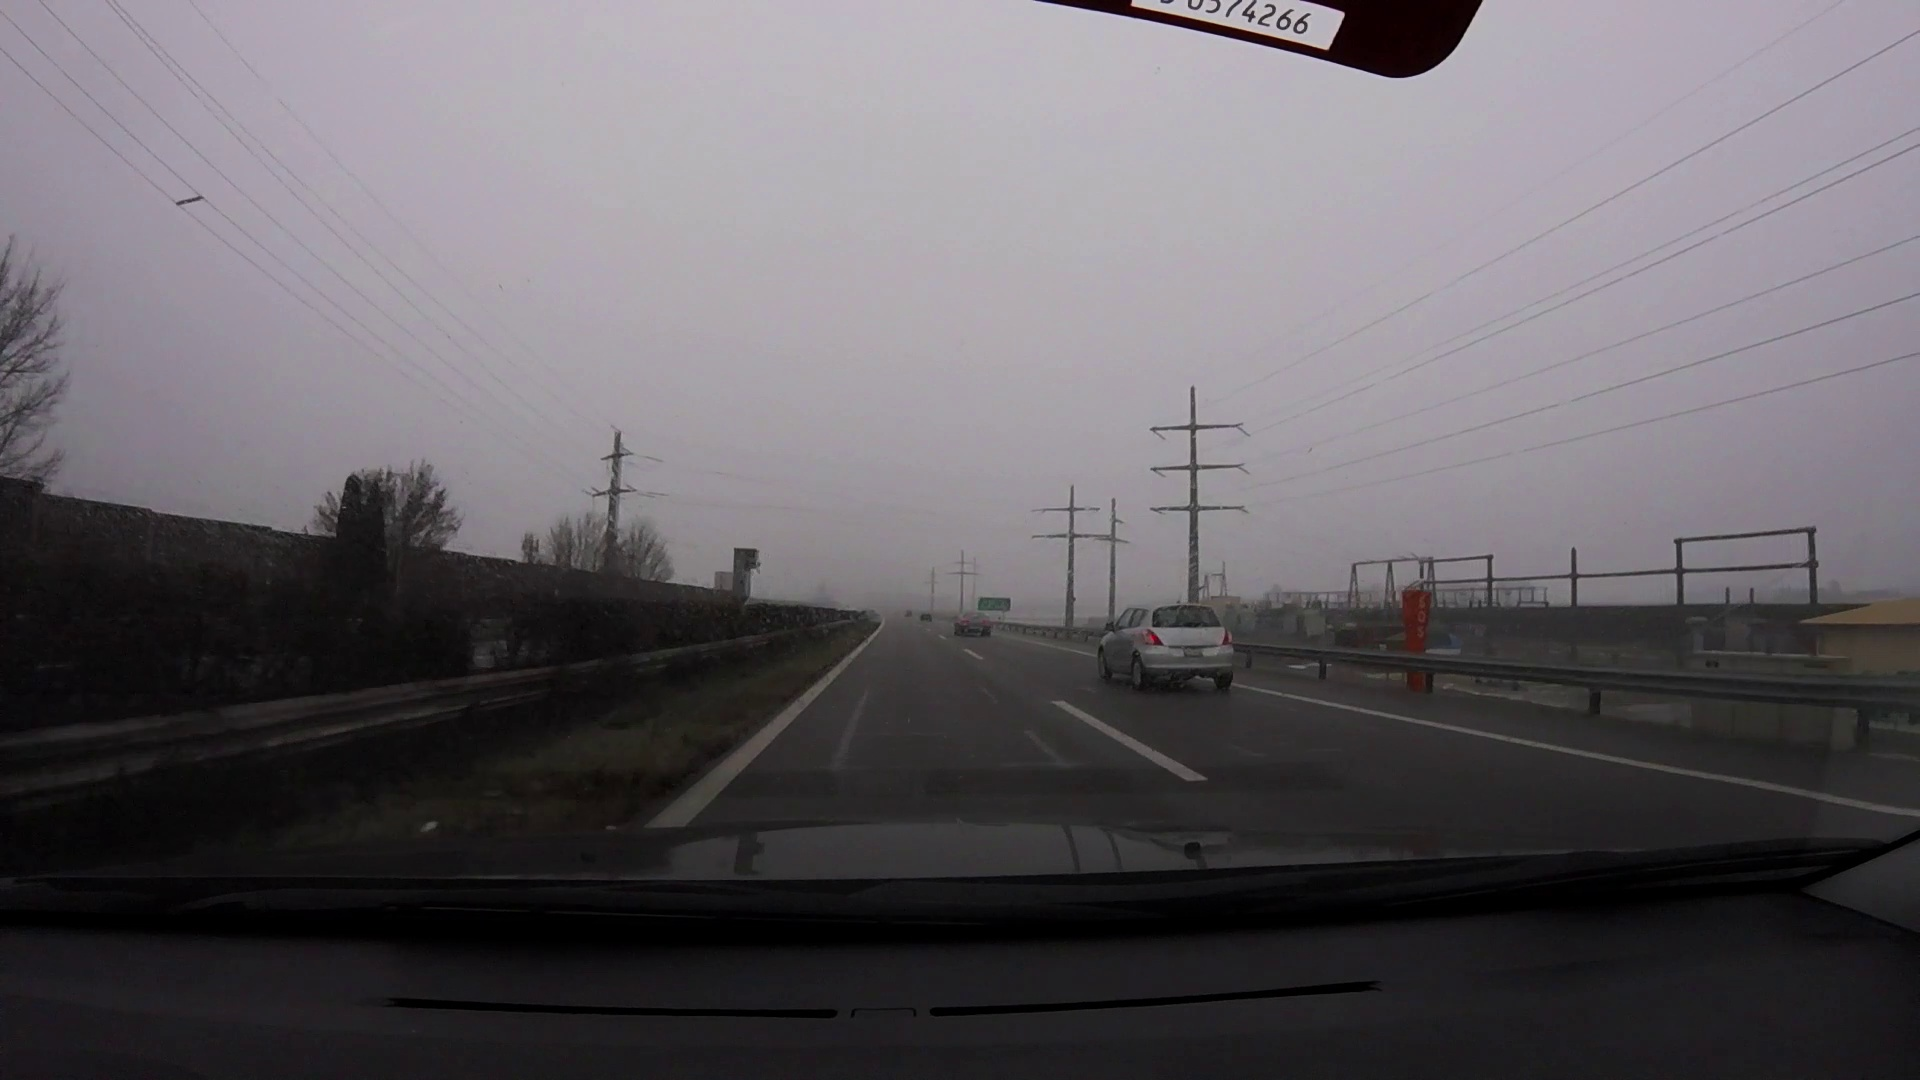radar: (731, 547, 764, 613)
